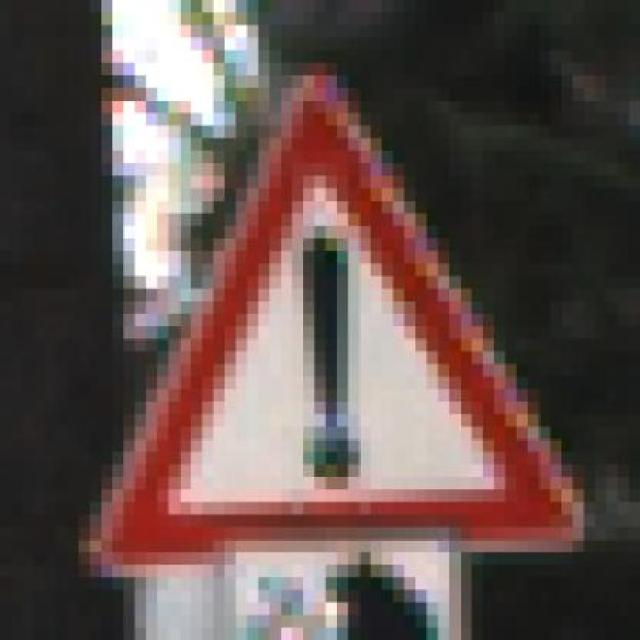Attention Please-: (79, 38, 606, 590)
